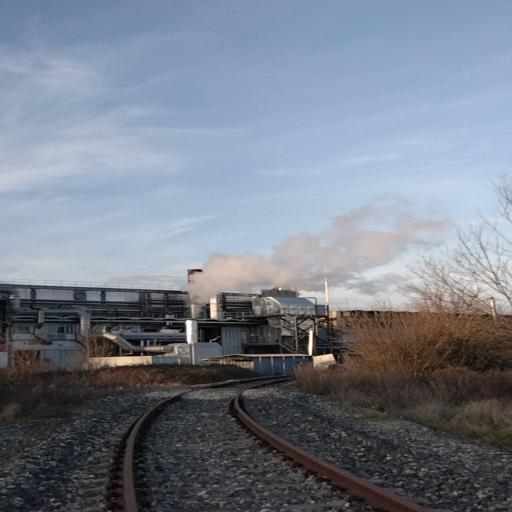leakage: (170, 186, 456, 318)
